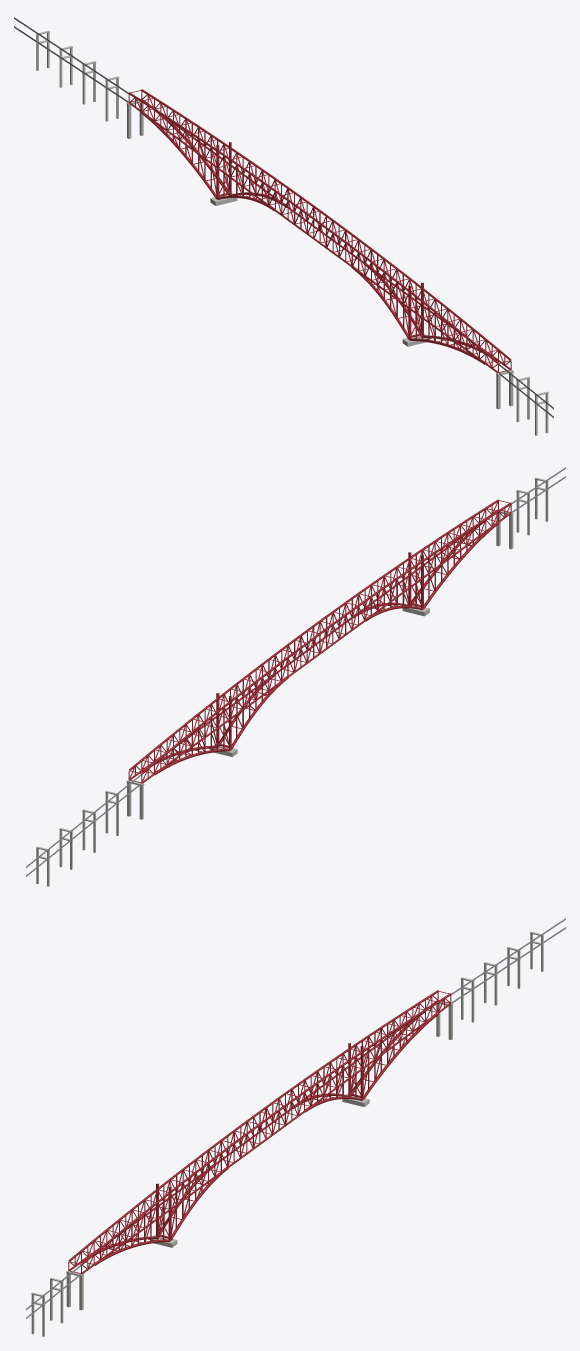
Rendered from osaka-minato-bridge.glb.
3 views of the same model, one above another, from view 1: azimuth 30°, elevation 25°; view 2: azimuth 150°, elevation 25°; view 3: azimuth 330°, elevation 25° (orthographic).
Visible parts, largest first — view 1: Minato Bridge; view 2: Minato Bridge; view 3: Minato Bridge.
Part boxes in pixels (x1,y1,x2,y2): Minato Bridge: (14, 17, 553, 435); Minato Bridge: (26, 467, 565, 886); Minato Bridge: (26, 918, 565, 1336).
Size of the model in its own units: 34 by 85.21 by 1433.
